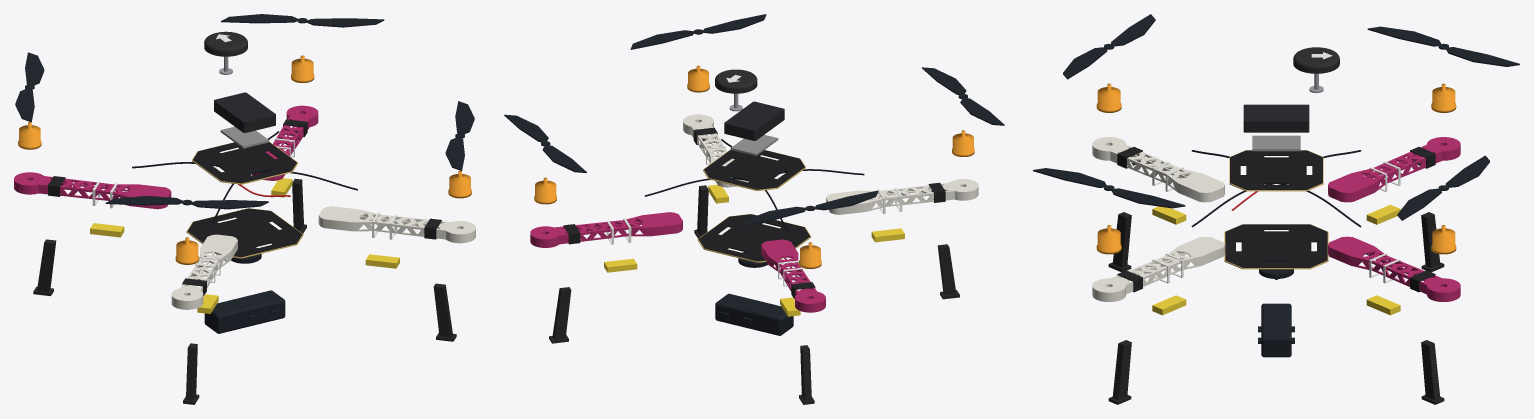
The model's file is f450-l2-r4-preview-exploded.glb.
3 views of the same model, side by side, from view 1: azimuth 30°, elevation 25°; view 2: azimuth 150°, elevation 25°; view 3: azimuth 270°, elevation 25° (orthographic). The views are drawn at different scales.
Parts seen in each view (by area): view 1: Bottom centre plate R4 下中心板, Top centre plate R4 上中心板, LatticeArm RR R4 白色格柵機臂, LatticeArm FR R4 紅色格柵機臂, Battery pack with strap R4 (carried from L1, spec UNKNOWN), LatticeArm RL R4 白色格柵機臂, Pixhawk FlightController R4 飛控, Two-blade propeller FL \u2014 photo silhouette, rotation unk, Two-blade propeller RL \u2014 photo silhouette, rotation unk, LatticeArm FL R4 紅色格柵機臂, Two-blade propeller FR \u2014 photo silhouette, rotation unk, Two-blade propeller RR \u2014 photo silhouette, rotation unk (+10 smaller); view 2: Bottom centre plate R4 下中心板, Top centre plate R4 上中心板, LatticeArm FL R4 紅色格柵機臂, LatticeArm RL R4 白色格柵機臂, Battery pack with strap R4 (carried from L1, spec UNKNOWN), LatticeArm FR R4 紅色格柵機臂, Pixhawk FlightController R4 飛控, LatticeArm RR R4 白色格柵機臂, Two-blade propeller RR \u2014 photo silhouette, rotation unk, Two-blade propeller FR \u2014 photo silhouette, rotation unk, Two-blade propeller FL \u2014 photo silhouette, rotation unk, Two-blade propeller RL \u2014 photo silhouette, rotation unk (+10 smaller); view 3: Bottom centre plate R4 下中心板, Top centre plate R4 上中心板, LatticeArm FR R4 紅色格柵機臂, LatticeArm RL R4 白色格柵機臂, LatticeArm FL R4 紅色格柵機臂, LatticeArm RR R4 白色格柵機臂, Pixhawk FlightController R4 飛控, Battery pack with strap R4 (carried from L1, spec UNKNOWN), Two-blade propeller RR \u2014 photo silhouette, rotation unk, Two-blade propeller FR \u2014 photo silhouette, rotation unk, Two-blade propeller RL \u2014 photo silhouette, rotation unk, Two-blade propeller FL \u2014 photo silhouette, rotation unk (+12 smaller).
Part boxes in pixels (x1,y1,x2,y2): Bottom centre plate R4 下中心板: (187,208,302,257); Top centre plate R4 上中心板: (193,142,296,183); LatticeArm RR R4 白色格柵機臂: (318,206,475,243); LatticeArm FR R4 紅色格柵機臂: (14,172,171,209); Battery pack with strap R4 (carried from L1, spec UNKNOWN): (204,290,285,333); LatticeArm RL R4 白色格柵機臂: (171,234,237,309); Pixhawk FlightController R4 飛控: (214,92,275,132); Two-blade propeller FL \u2014 photo silhouette, rotation unk: (221,14,384,27); Two-blade propeller RL \u2014 photo silhouette, rotation unk: (105,196,268,209); LatticeArm FL R4 紅色格柵機臂: (252,105,318,180); Two-blade propeller FR \u2014 photo silhouette, rotation unk: (15,52,44,122); Two-blade propeller RR \u2014 photo silhouette, rotation unk: (445,101,474,170); Bottom centre plate R4 下中心板: (698,214,810,261); Top centre plate R4 上中心板: (704,150,804,189); LatticeArm FL R4 紅色格柵機臂: (530,212,682,247); LatticeArm RL R4 白色格柵機臂: (826,179,978,214); Battery pack with strap R4 (carried from L1, spec UNKNOWN): (715,293,793,335); LatticeArm FR R4 紅色格柵機臂: (761,239,825,312); Pixhawk FlightController R4 飛控: (724,101,784,140); LatticeArm RR R4 白色格柵機臂: (683,114,747,187); Two-blade propeller RR \u2014 photo silhouette, rotation unk: (630,14,766,49); Two-blade propeller FR \u2014 photo silhouette, rotation unk: (742,190,878,226); Two-blade propeller FL \u2014 photo silhouette, rotation unk: (504,114,586,172); Two-blade propeller RL \u2014 photo silhouette, rotation unk: (922,67,1004,125); Bottom centre plate R4 下中心板: (1225,224,1327,267); Top centre plate R4 上中心板: (1230,150,1322,189); LatticeArm FR R4 紅色格柵機臂: (1328,137,1460,202); LatticeArm RL R4 白色格柵機臂: (1092,137,1224,202); LatticeArm FL R4 紅色格柵機臂: (1328,236,1460,301); LatticeArm RR R4 白色格柵機臂: (1092,236,1224,301); Pixhawk FlightController R4 飛控: (1243,104,1309,132); Battery pack with strap R4 (carried from L1, spec UNKNOWN): (1258,303,1294,357); Two-blade propeller RR \u2014 photo silhouette, rotation unk: (1033,168,1185,208); Two-blade propeller FR \u2014 photo silhouette, rotation unk: (1367,26,1519,66); Two-blade propeller RL \u2014 photo silhouette, rotation unk: (1063,14,1155,79); Two-blade propeller FL \u2014 photo silhouette, rotation unk: (1397,155,1489,220).
Bounding box in the file's own units: 607 × 392 × 607.
